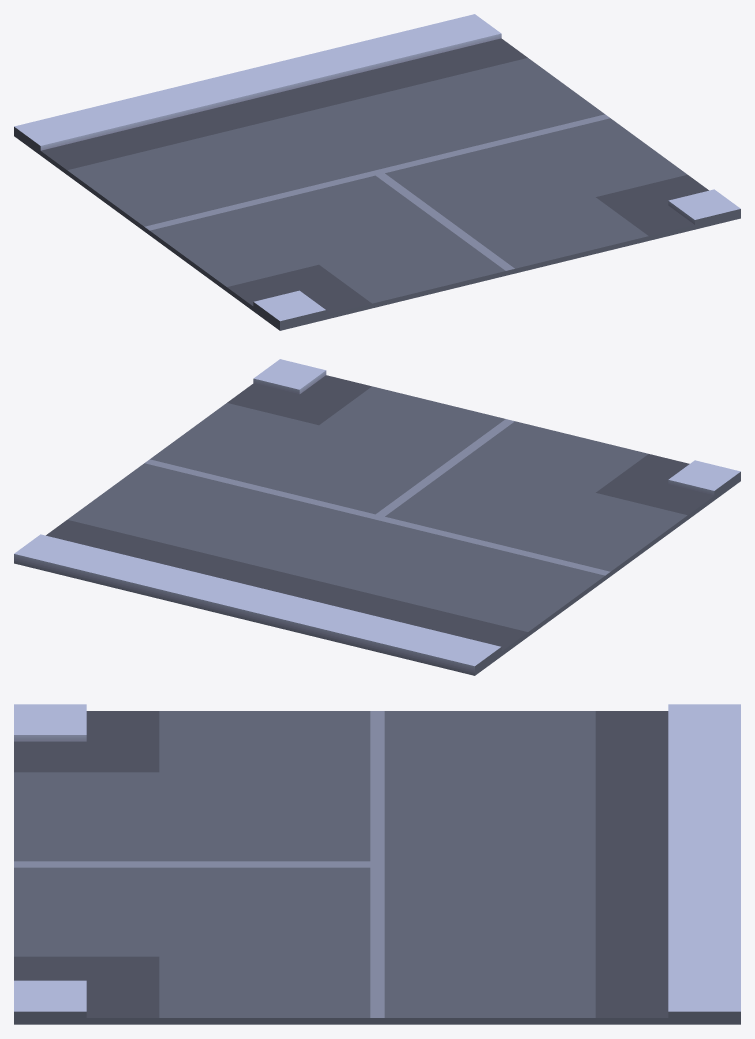
File: road-intersection-line.glb
3 renders of one model, top to bottom at view 1: azimuth 30°, elevation 25°; view 2: azimuth 150°, elevation 25°; view 3: azimuth 270°, elevation 25°, orthographic. The views are drawn at different scales.
Parts seen in each view (by area): view 1: road-intersection-line; view 2: road-intersection-line; view 3: road-intersection-line.
Part boxes in pixels (x1,y1,x2,y2): road-intersection-line: (14, 14, 740, 330); road-intersection-line: (14, 359, 740, 675); road-intersection-line: (14, 704, 740, 1024).
Bounding box in the file's own units: 1 × 0.02 × 1.
Materials: 1 (1 with a texture image).
